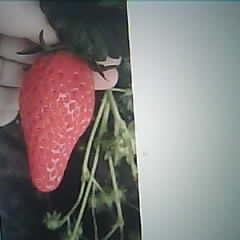straw-ripe: (22, 49, 96, 192)
